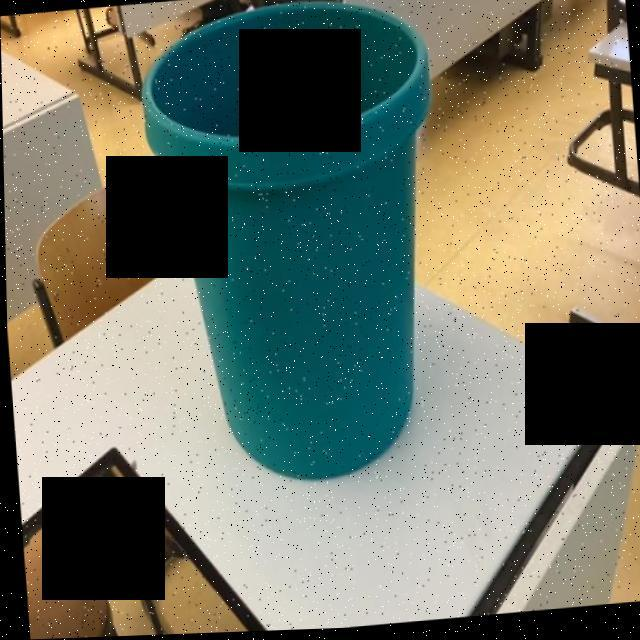bin: (117, 0, 456, 513)
